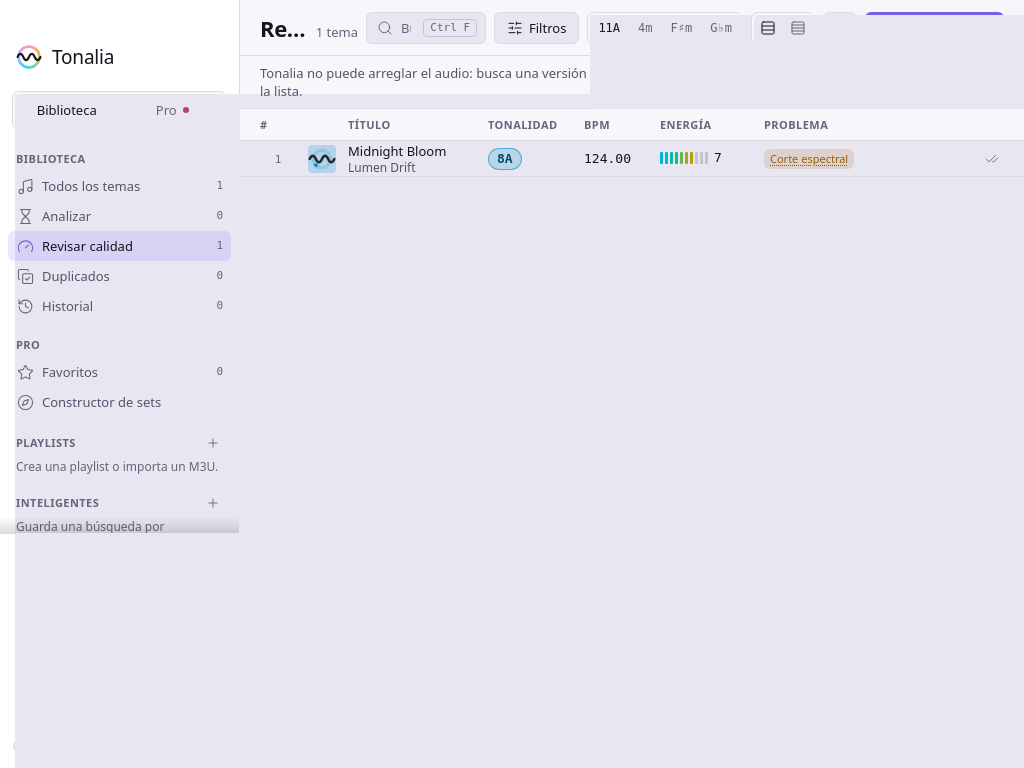
Scenario: in Revisar calidad the cut-off chip opens the spectrogram
Click the button with aria-label "Ver el espectrograma de «Midnight Bloom»": (809, 159) top-left (764, 149), bottom-right (854, 169)
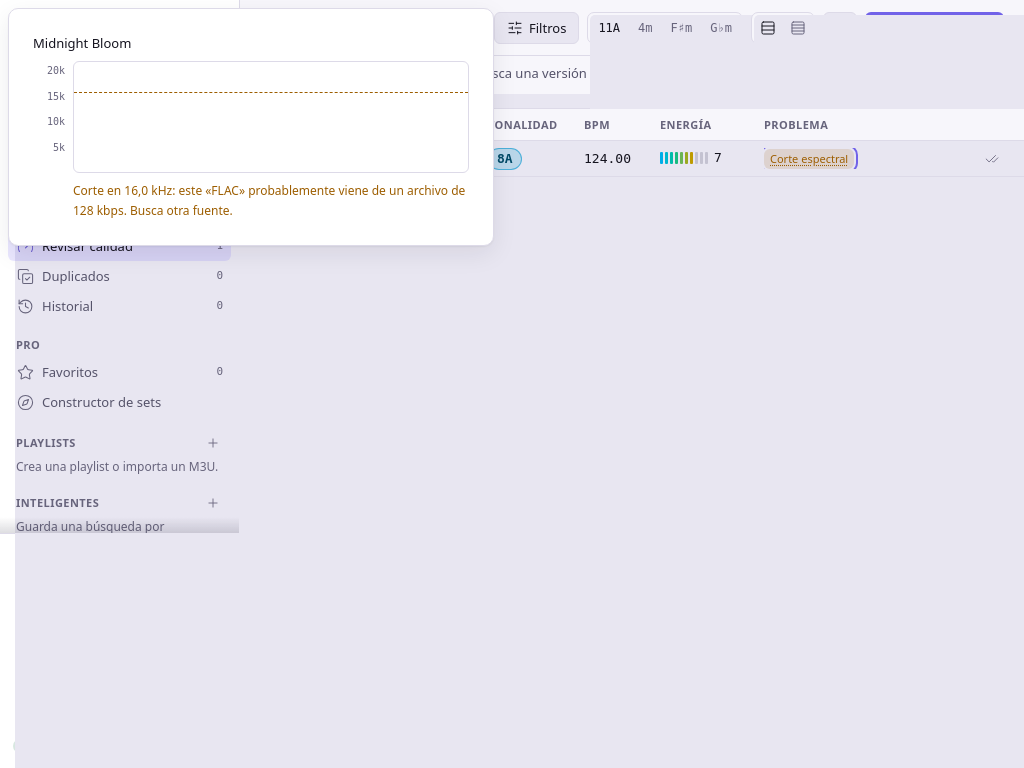
Check: the text "probablemente viene de un archivo de 128 kbps" is shown, box top-left (73, 182), bottom-right (465, 219)
